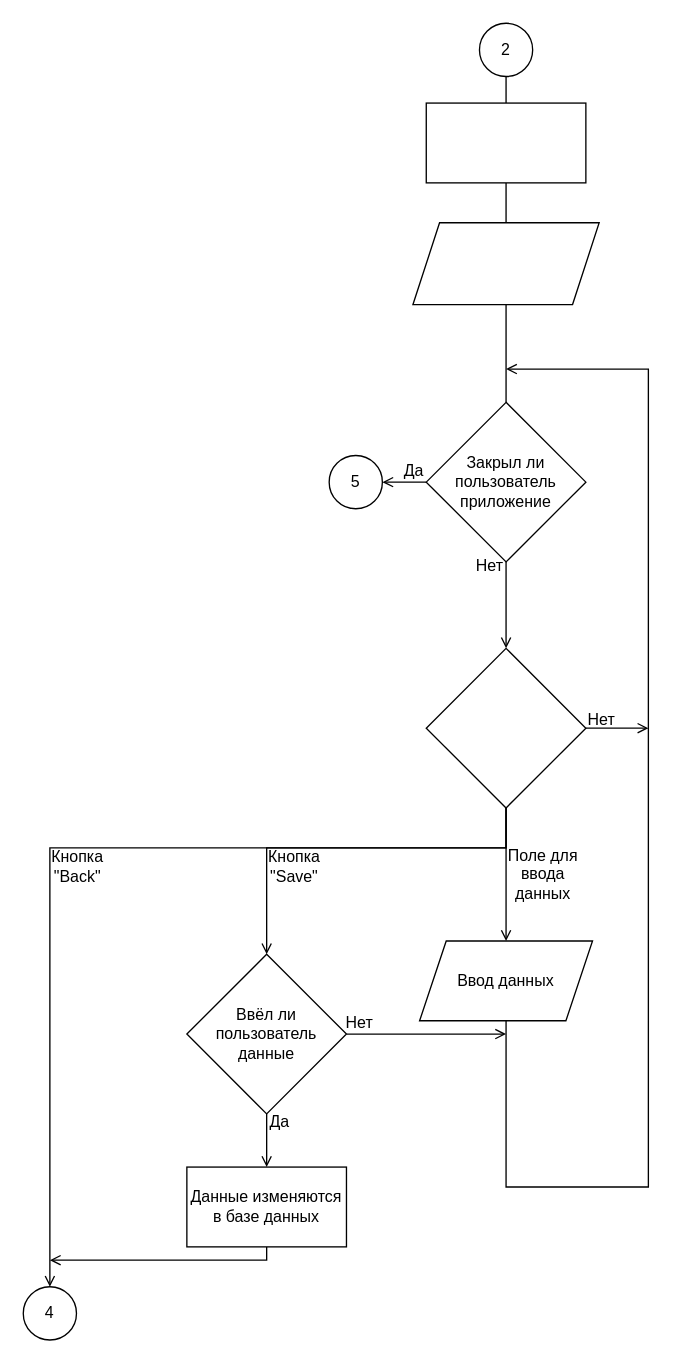
The diagram is 682 pixels wide and 1363 high, and some of its shapes have lost their labels. The box of each missing label's shape, as (x1, y1, x2, y2) in pixels:
Вставка данных в поля для ввода из базы данных: (412, 221, 599, 305)
Запуск окна изменения задачи: (425, 102, 586, 183)
Нажал ли пользователь на элемент интерфейса: (425, 647, 586, 808)
